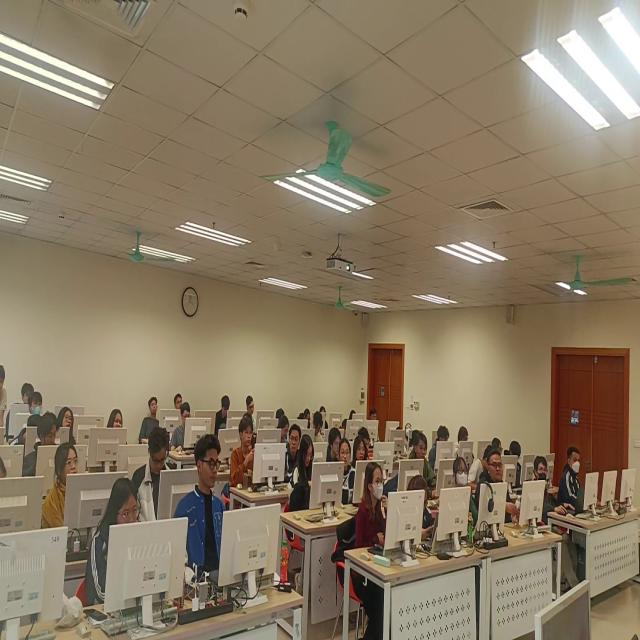raise_head: (183, 440, 245, 581), (356, 467, 396, 579), (47, 452, 94, 533), (479, 451, 515, 530), (532, 455, 566, 533), (561, 449, 594, 517), (452, 460, 480, 533), (337, 441, 360, 514), (19, 378, 45, 441), (409, 434, 438, 482), (106, 407, 129, 464), (144, 391, 169, 439), (58, 406, 85, 448), (354, 433, 369, 468), (406, 421, 416, 443)
using_computer: (95, 479, 180, 640), (143, 431, 185, 523), (293, 435, 325, 516), (235, 421, 268, 493), (33, 416, 62, 478), (176, 407, 202, 459), (431, 427, 457, 469), (511, 441, 531, 489), (456, 426, 478, 467), (217, 391, 235, 438), (244, 394, 264, 427), (312, 414, 327, 456), (277, 418, 292, 453), (330, 431, 342, 463)
using_phone: (406, 480, 451, 559)
